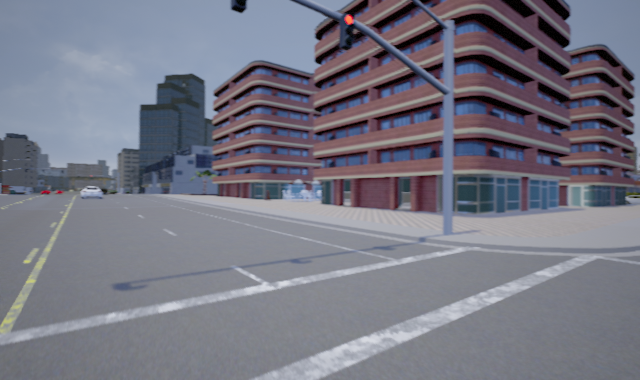vehicle: (80, 185, 104, 200)
